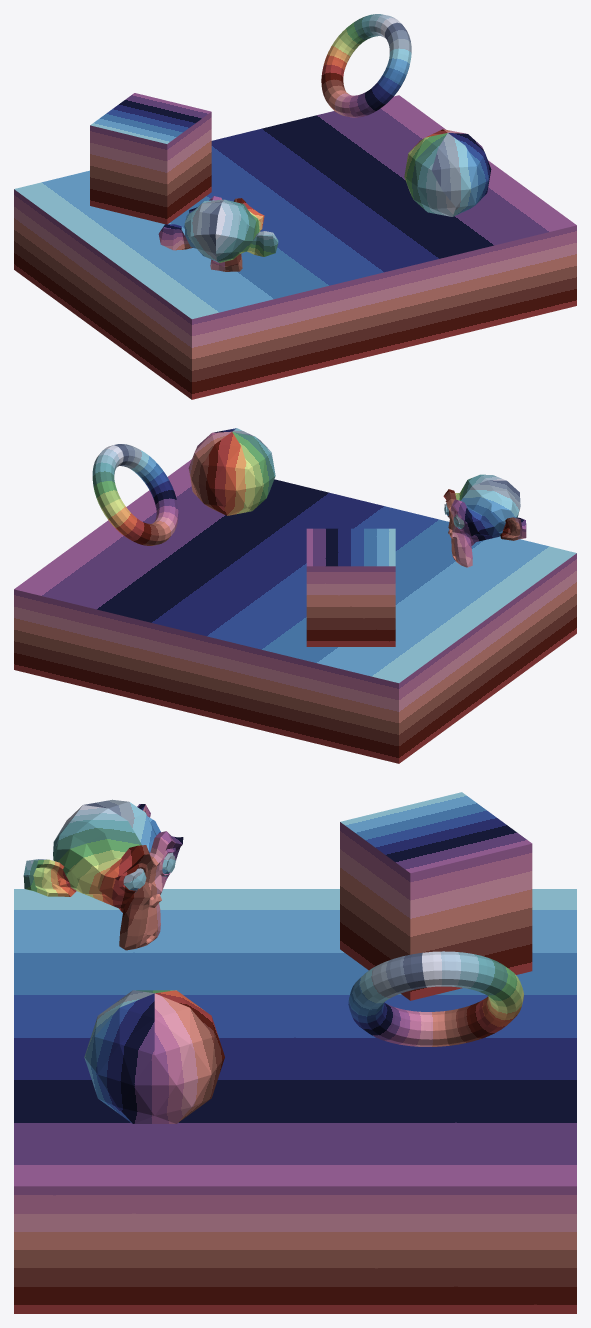
File: cameras.gltf
3 views of the same model, one above another, from view 1: azimuth 30°, elevation 25°; view 2: azimuth 150°, elevation 25°; view 3: azimuth 270°, elevation 25° (orthographic). The views are drawn at different scales.
Visible parts, largest first — view 1: Cube, Cube.001, Icosphere, Suzanne, Torus; view 2: Cube, Cube.001, Icosphere, Torus, Suzanne; view 3: Cube, Cube.001, Icosphere, Suzanne, Torus.
Boxes of the visible parts, x1,y1,x2,y2 form: Cube: (14, 95, 576, 399); Cube.001: (90, 93, 211, 224); Icosphere: (404, 129, 491, 216); Suzanne: (158, 196, 278, 271); Torus: (321, 14, 411, 117); Cube: (14, 459, 576, 763); Cube.001: (306, 528, 395, 646); Icosphere: (188, 428, 275, 515); Torus: (92, 444, 178, 545); Suzanne: (443, 474, 526, 567); Cube: (14, 889, 576, 1313); Cube.001: (340, 792, 532, 1000); Icosphere: (84, 990, 224, 1123); Suzanne: (23, 799, 183, 950); Torus: (348, 951, 523, 1046).
Size of the model in its own units: 10 by 5.02 by 8.
Materials: 1 (1 with a texture image).
